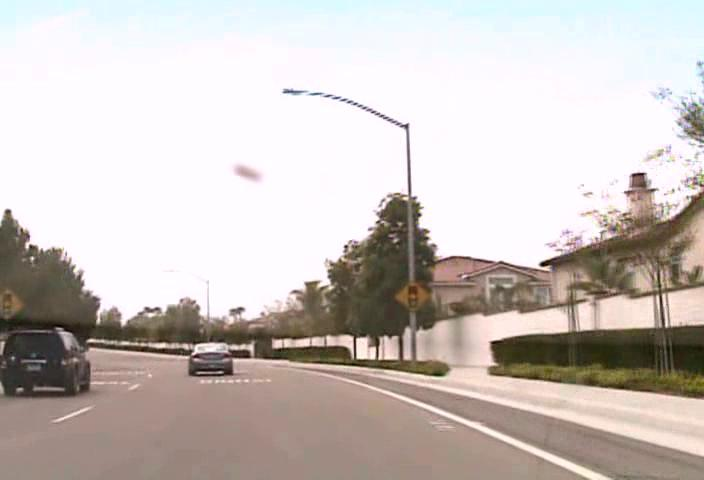signalAhead: (394, 277, 430, 314)
